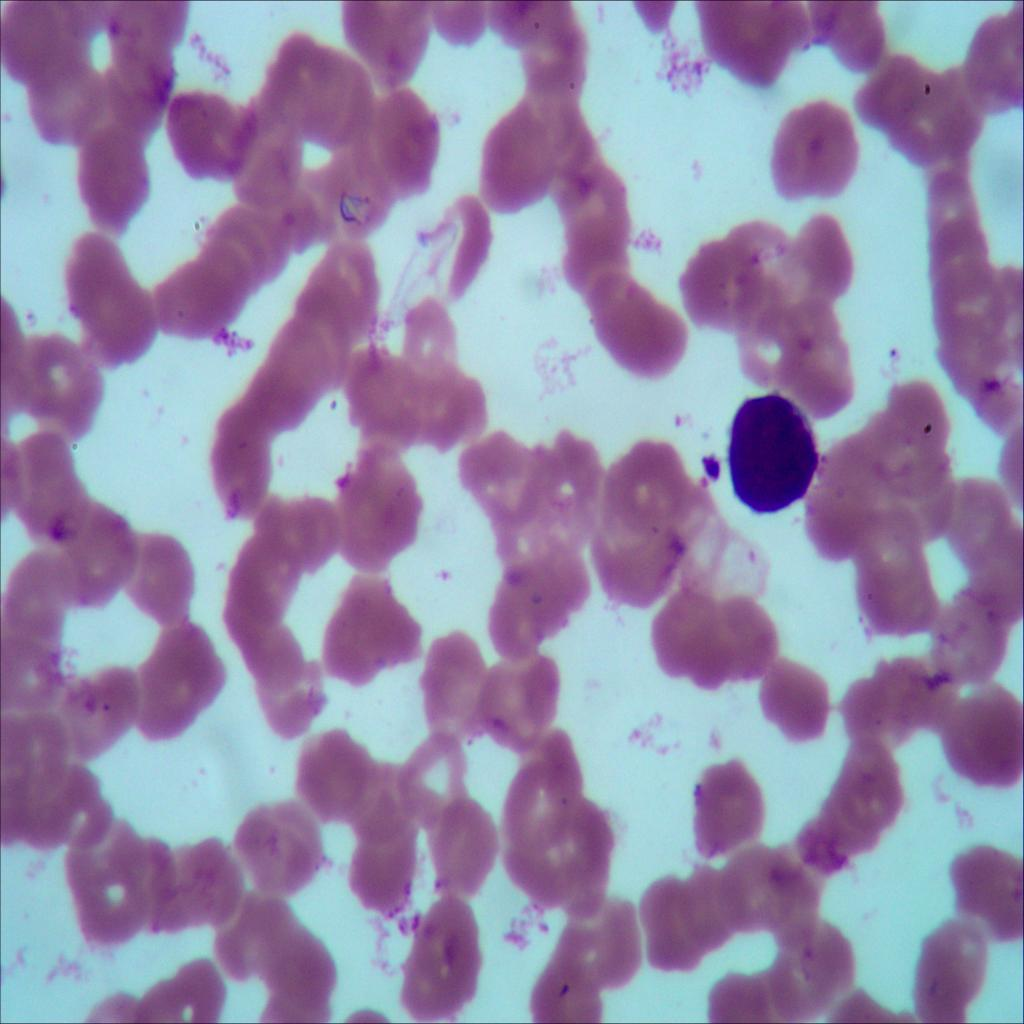Limfoblast: (723, 382, 821, 518)
Platelet: (698, 445, 724, 486)
